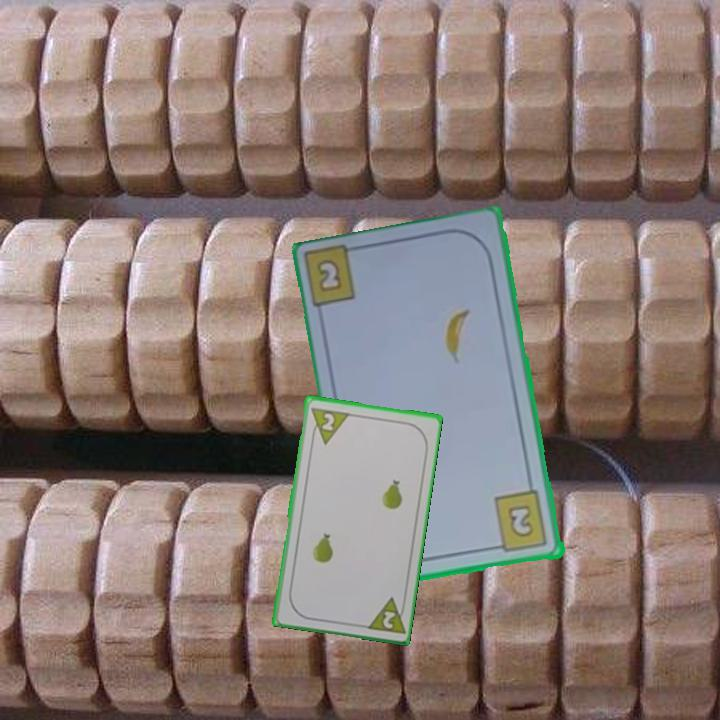2b: (490, 488, 551, 556), (316, 259, 342, 292)
2p: (361, 593, 407, 636), (307, 403, 351, 447)
